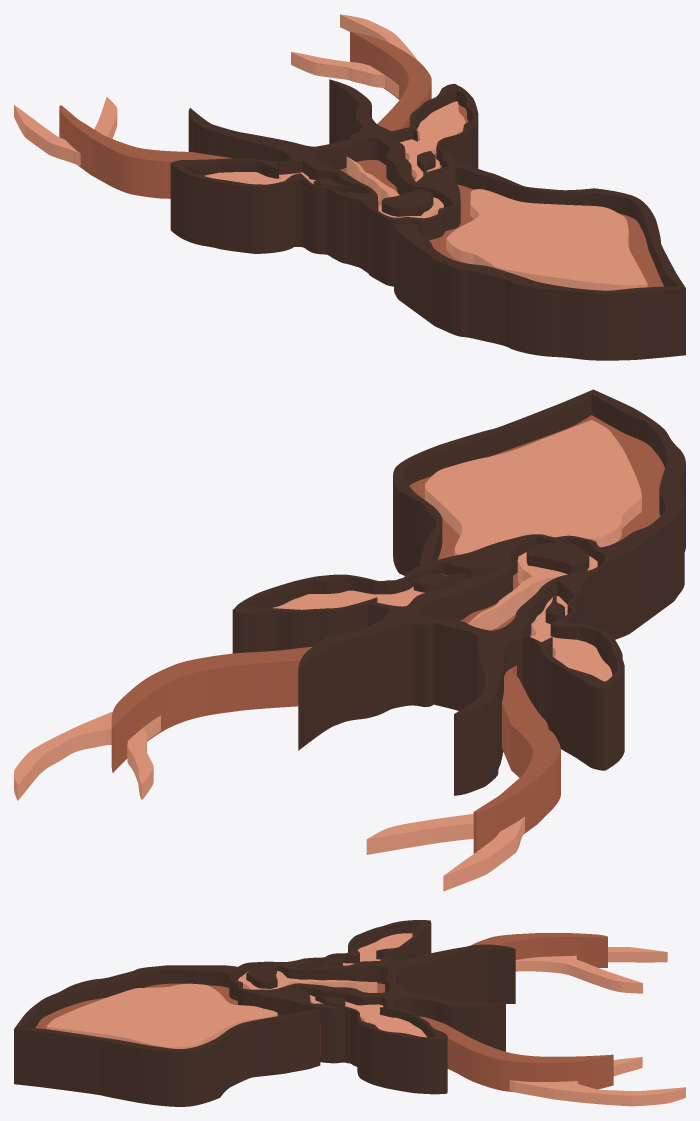
File: deer_layer_light.glb
3 renders of one model, top to bottom at view 1: azimuth 30°, elevation 25°; view 2: azimuth 150°, elevation 25°; view 3: azimuth 270°, elevation 25°, orthographic. The views are drawn at different scales.
Parts seen in each view (by area): view 1: Curve.026, Curve.030, liggtbrown, medbrown, antler2, liggtbrown.003, nose, liggtbrown.001, liggtbrown.002, eyes; view 2: Curve.026, medbrown, Curve.030, liggtbrown, antler2, liggtbrown.001, liggtbrown.002, liggtbrown.003, nose, eyes; view 3: Curve.026, Curve.030, medbrown, liggtbrown, antler2, liggtbrown.003, liggtbrown.001, liggtbrown.002, nose, eyes.
Part boxes in pixels (x1=…): Curve.026: x1=170, y1=79, x2=478, y2=286; Curve.030: x1=394, y1=164, x2=685, y2=360; liggtbrown: x1=446, y1=189, x2=647, y2=290; medbrown: x1=59, y1=31, x2=663, y2=287; antler2: x1=14, y1=14, x2=416, y2=165; liggtbrown.003: x1=400, y1=101, x2=465, y2=181; nose: x1=381, y1=189, x2=433, y2=216; liggtbrown.001: x1=346, y1=156, x2=443, y2=218; liggtbrown.002: x1=204, y1=172, x2=350, y2=192; eyes: x1=313, y1=151, x2=435, y2=192; Curve.026: x1=232, y1=534, x2=624, y2=795; medbrown: x1=111, y1=415, x2=664, y2=853; Curve.030: x1=393, y1=389, x2=685, y2=639; liggtbrown: x1=425, y1=420, x2=641, y2=555; antler2: x1=14, y1=711, x2=524, y2=891; liggtbrown.001: x1=468, y1=552, x2=597, y2=630; liggtbrown.002: x1=530, y1=596, x2=612, y2=681; liggtbrown.003: x1=273, y1=574, x2=446, y2=609; nose: x1=526, y1=543, x2=589, y2=574; eyes: x1=413, y1=573, x2=564, y2=623; Curve.026: x1=229, y1=920, x2=515, y2=1094; Curve.030: x1=14, y1=965, x2=320, y2=1106; medbrown: x1=35, y1=933, x2=613, y2=1092; liggtbrown: x1=46, y1=983, x2=277, y2=1048; antler2: x1=509, y1=947, x2=685, y2=1106; liggtbrown.003: x1=309, y1=995, x2=426, y2=1037; liggtbrown.001: x1=238, y1=971, x2=377, y2=992; liggtbrown.002: x1=343, y1=933, x2=412, y2=965; nose: x1=246, y1=963, x2=277, y2=988; eyes: x1=315, y1=957, x2=345, y2=1006.
Bounding box in the file's own units: 60.69 × 11.69 × 116.
